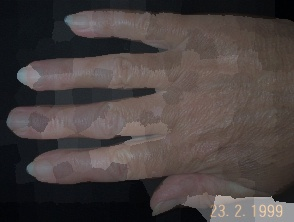vitiligo: (4, 8, 294, 218)
